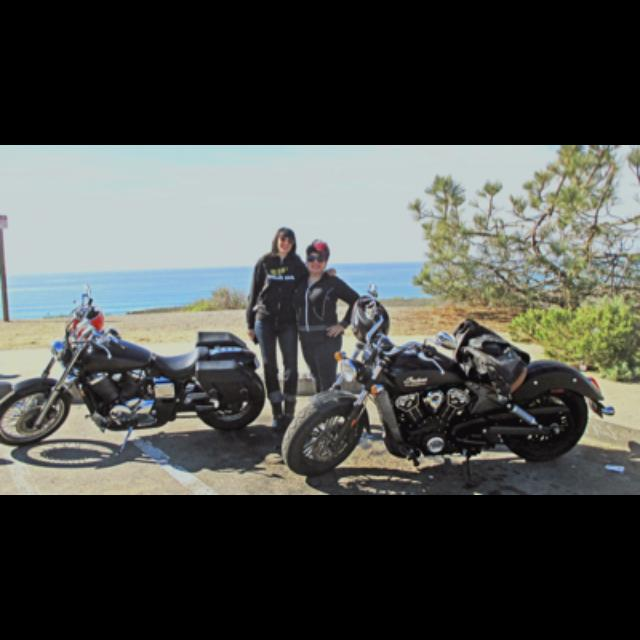Without Helmet: (302, 238, 332, 272), (272, 222, 300, 258)
